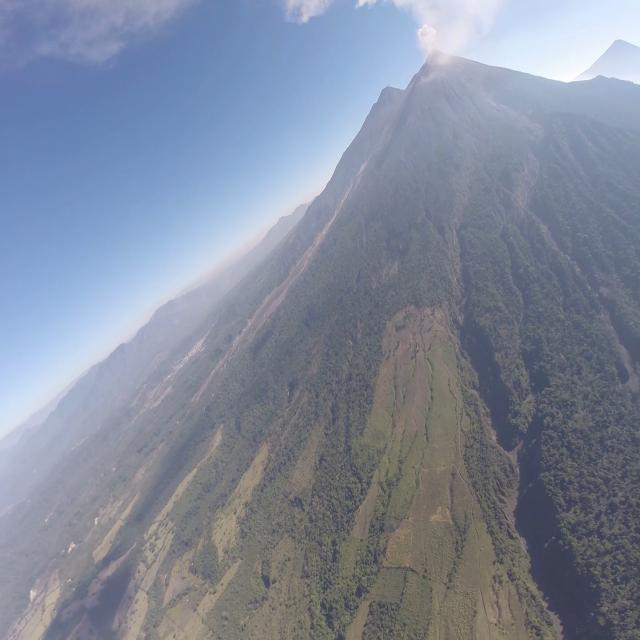Plume: (426, 8, 444, 38)
Summit: (423, 48, 454, 66)
